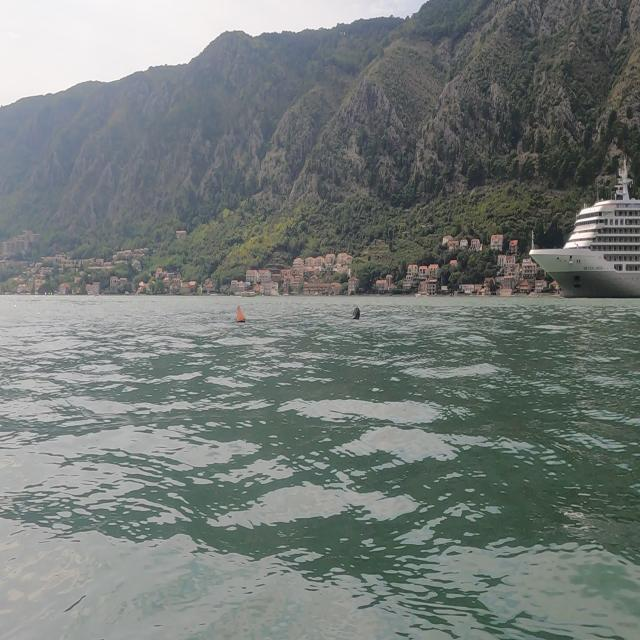boat: (513, 135, 640, 319)
buoy: (229, 298, 253, 339), (348, 301, 372, 332)
